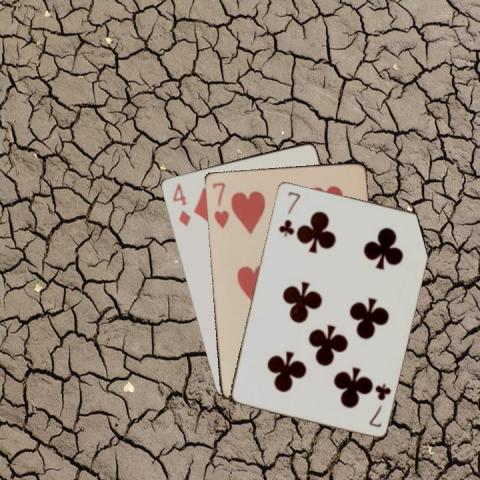4d: (169, 180, 192, 228)
7c: (276, 188, 302, 237), (366, 380, 392, 428)
7h: (209, 180, 230, 229)
